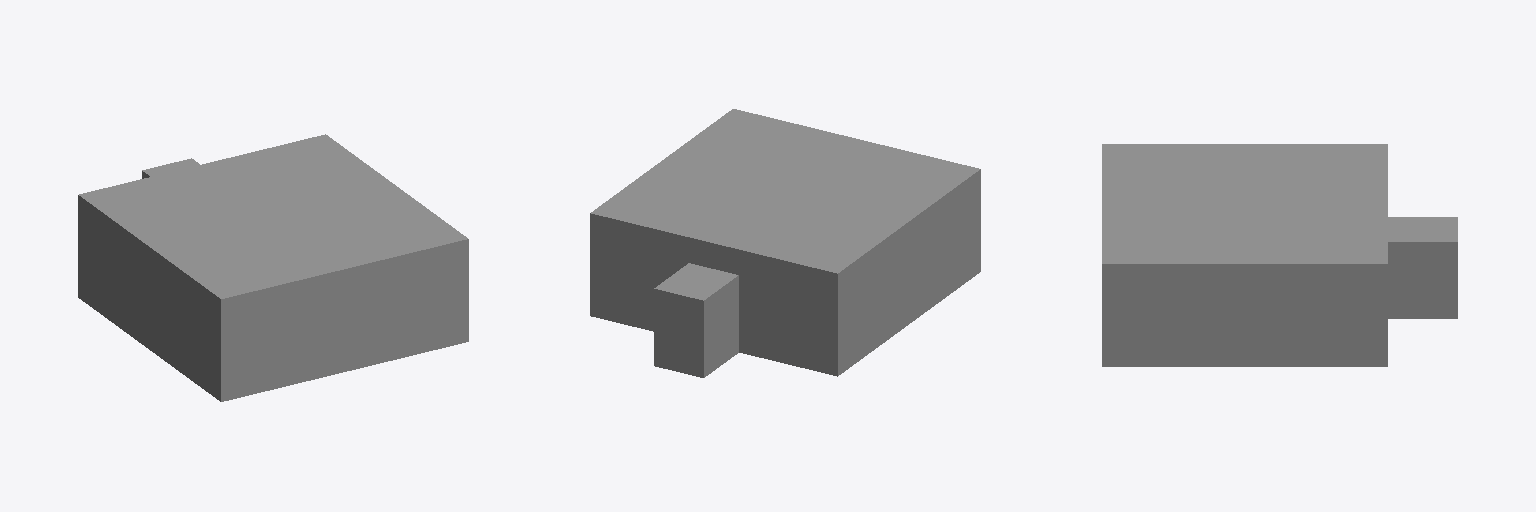
File: crystal.obj
The picture shows the model from 3 angles: view 1: azimuth 30°, elevation 25°; view 2: azimuth 150°, elevation 25°; view 3: azimuth 270°, elevation 25°; orthographic projection.
Parts seen in each view (by area): view 1: vsn_mesh_7__mesh_7_, vsn_mesh_12__mesh_12_, vsn_mesh_0__mesh_0_; view 2: vsn_mesh_7__mesh_7_, vsn_mesh_10__mesh_10_, vsn_mesh_0__mesh_0_, vsn_mesh_14__mesh_14_; view 3: vsn_mesh_7__mesh_7_, vsn_mesh_2__mesh_2_, vsn_mesh_14__mesh_14_.
Part boxes in pixels (bbox=[...]): vsn_mesh_7__mesh_7_: bbox=[79, 134, 467, 298]; vsn_mesh_12__mesh_12_: bbox=[221, 239, 468, 401]; vsn_mesh_0__mesh_0_: bbox=[78, 195, 220, 401]; vsn_mesh_7__mesh_7_: bbox=[591, 109, 979, 273]; vsn_mesh_10__mesh_10_: bbox=[590, 213, 837, 376]; vsn_mesh_0__mesh_0_: bbox=[838, 169, 980, 375]; vsn_mesh_14__mesh_14_: bbox=[654, 263, 738, 377]; vsn_mesh_7__mesh_7_: bbox=[1102, 144, 1387, 263]; vsn_mesh_2__mesh_2_: bbox=[1102, 264, 1387, 366]; vsn_mesh_14__mesh_14_: bbox=[1388, 217, 1457, 318].
Size of the model in its own units: 6.8 by 2.73 by 8.47.